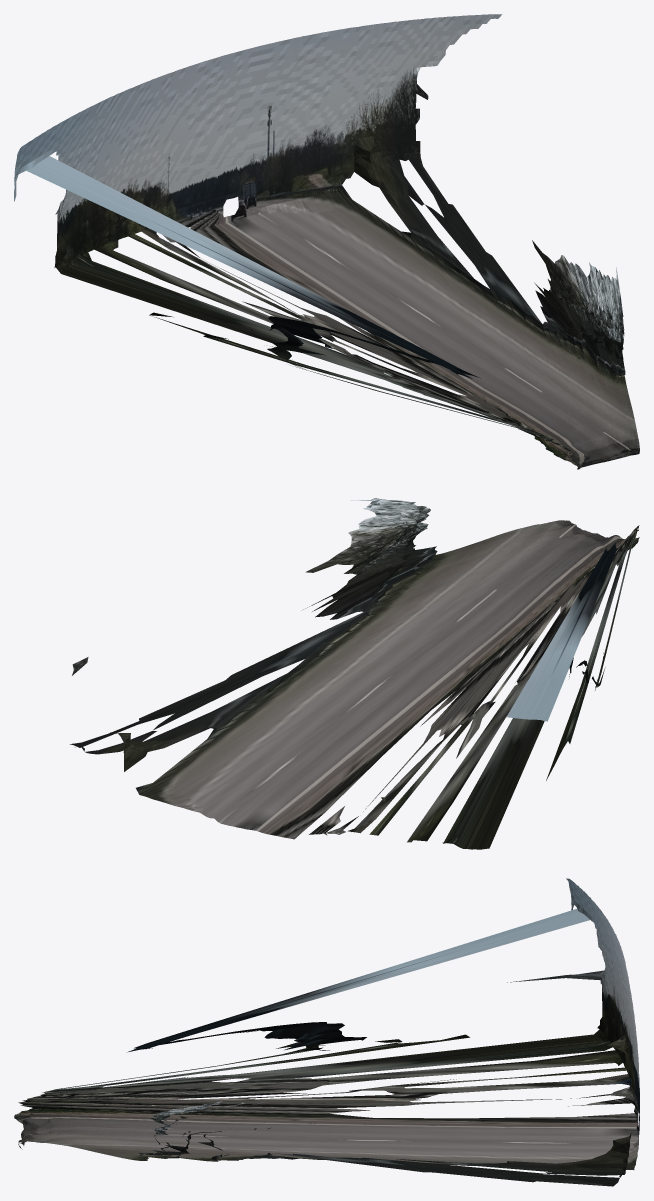
The picture shows the model from 3 angles, top to bottom: view 1: azimuth 30°, elevation 25°; view 2: azimuth 150°, elevation 25°; view 3: azimuth 270°, elevation 25°; orthographic projection. The views are drawn at different scales.
Parts seen in each view (by area): view 1: defaultobject; view 2: defaultobject; view 3: defaultobject.
Part boxes in pixels (x1=…): defaultobject: x1=14, y1=14, x2=639, y2=469; defaultobject: x1=70, y1=498, x2=639, y2=849; defaultobject: x1=14, y1=878, x2=639, y2=1186.
Bounding box in the file's own units: 36.4 × 12.19 × 44.68.
1 material, 1 textured.
